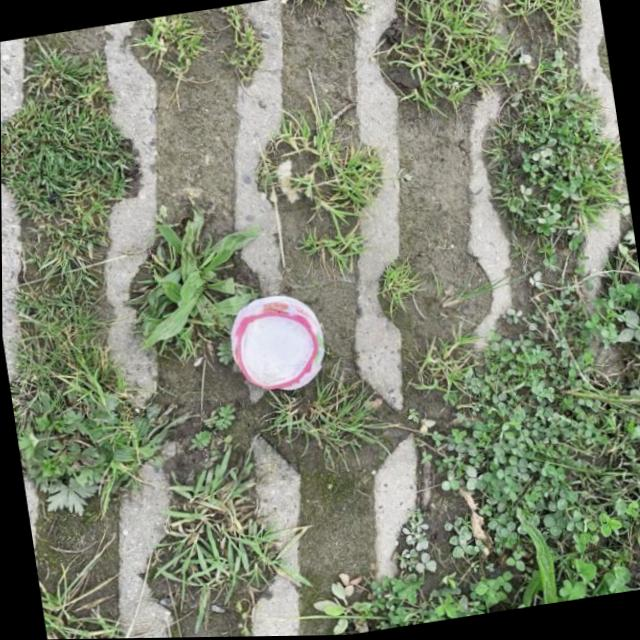Paper: (222, 288, 331, 401)
